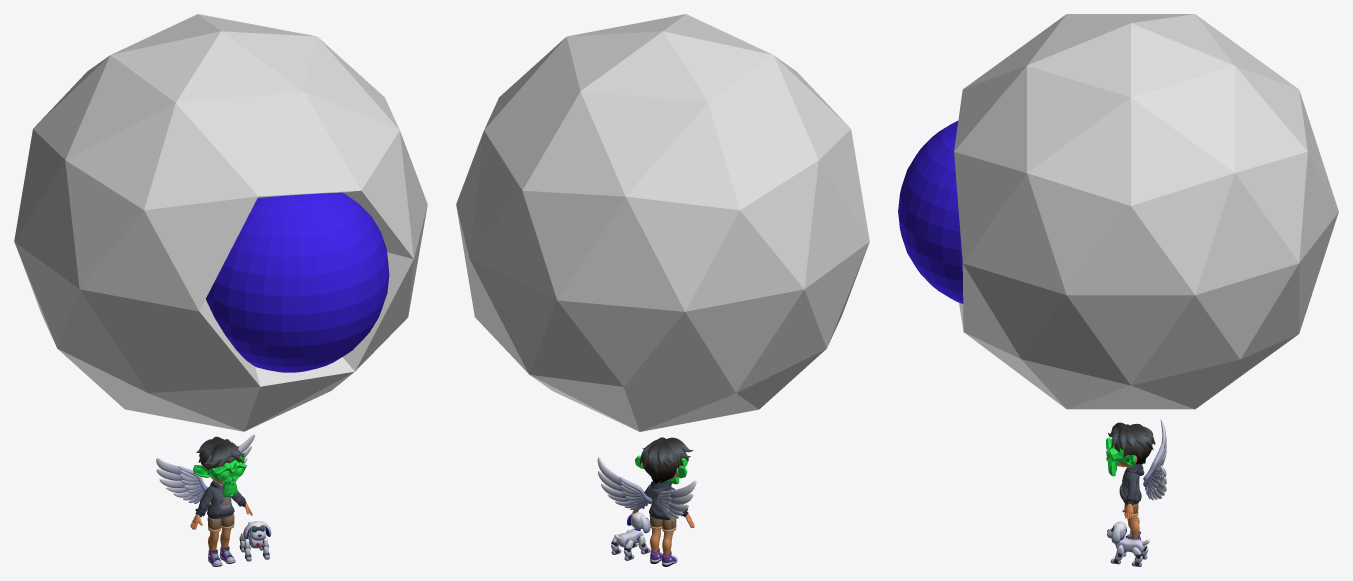
Rendered from MyAvatar.glb.
3 views of the same model, side by side, from view 1: azimuth 30°, elevation 25°; view 2: azimuth 150°, elevation 25°; view 3: azimuth 270°, elevation 25° (orthographic).
Parts seen in each view (by area): view 1: Icosphere, Sphere, M_Tone01, Wing, Spikey03, Suzanne, Robot_Dog; view 2: Icosphere, Wing, M_Tone01, Spikey03, Robot_Dog; view 3: Icosphere, Sphere, Spikey03, M_Tone01, Robot_Dog, Wing, Suzanne.
Boxes of the visible parts, bbox=[...] form: Icosphere: bbox=[14, 14, 427, 431]; Sphere: bbox=[206, 192, 389, 372]; M_Tone01: bbox=[190, 480, 252, 566]; Wing: bbox=[156, 434, 254, 503]; Spikey03: bbox=[196, 436, 245, 474]; Suzanne: bbox=[193, 453, 246, 497]; Robot_Dog: bbox=[239, 521, 271, 561]; Icosphere: bbox=[456, 14, 869, 431]; Wing: bbox=[597, 457, 696, 519]; M_Tone01: bbox=[632, 481, 694, 566]; Spikey03: bbox=[639, 437, 693, 484]; Robot_Dog: bbox=[611, 512, 650, 560]; Icosphere: bbox=[954, 14, 1338, 409]; Sphere: bbox=[898, 121, 963, 303]; Spikey03: bbox=[1108, 422, 1155, 464]; M_Tone01: bbox=[1119, 464, 1144, 539]; Robot_Dog: bbox=[1107, 521, 1149, 566]; Wing: bbox=[1143, 419, 1166, 500]; Suzanne: bbox=[1106, 437, 1135, 476].
Size of what is drawn, in the model's own units: 1.9 by 2.77 by 2.12.
5 materials, 3 textured.
